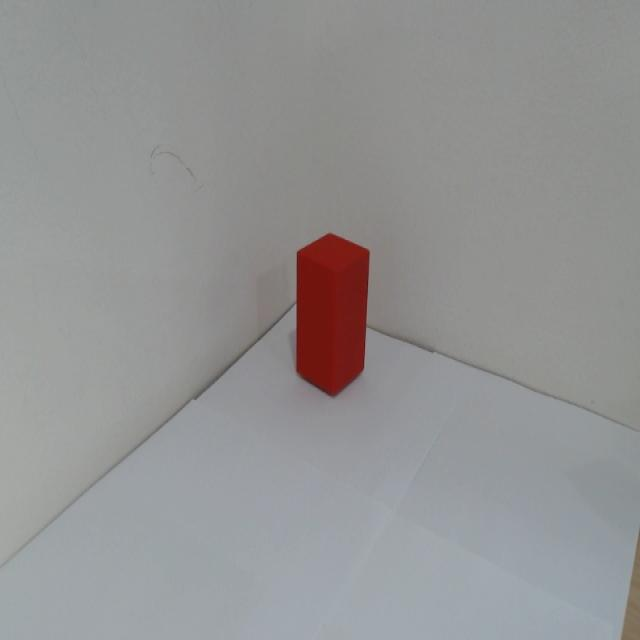cube: (293, 226, 372, 402)
